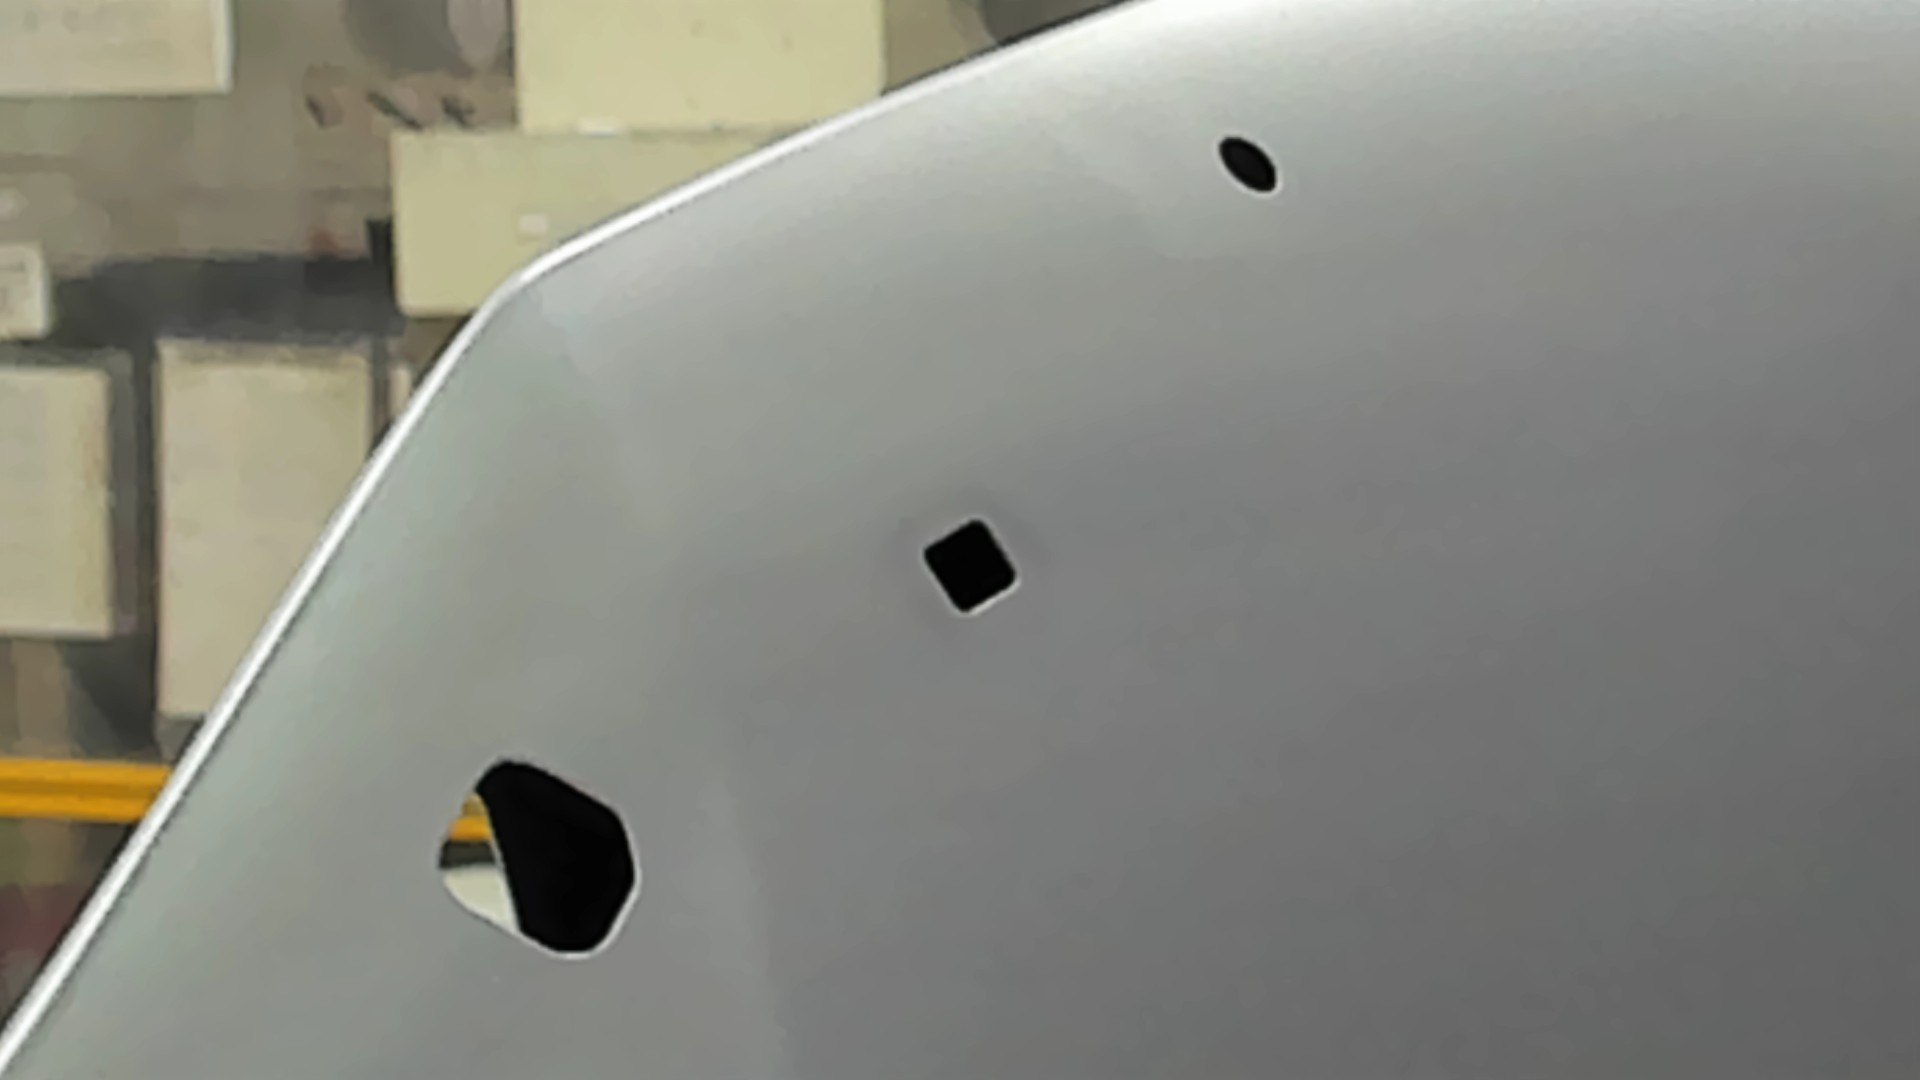chico: (1211, 131, 1284, 195)
grande: (434, 749, 644, 963)
mediano: (919, 512, 1027, 624)
